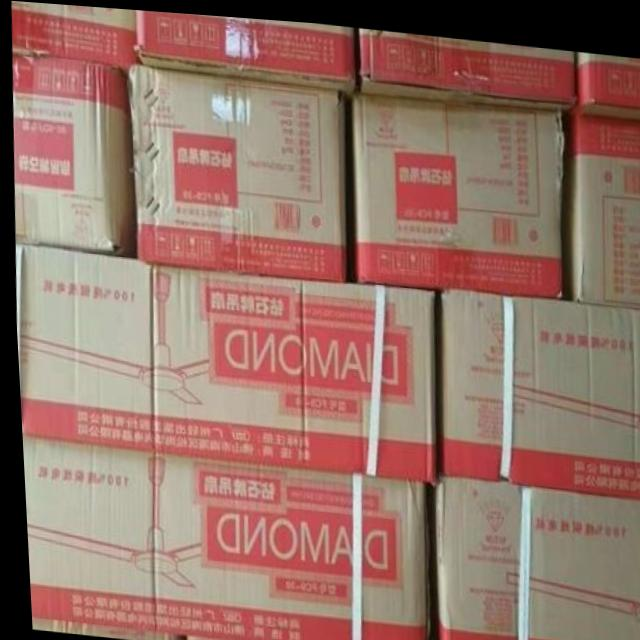box: (14, 240, 431, 479), (18, 438, 422, 640), (123, 60, 347, 279), (350, 87, 561, 288), (438, 283, 640, 487), (431, 473, 640, 640), (13, 54, 133, 256), (134, 8, 356, 91), (357, 23, 577, 101), (561, 104, 640, 297), (12, 1, 136, 72), (577, 42, 640, 110), (25, 617, 174, 638), (179, 629, 277, 640)
